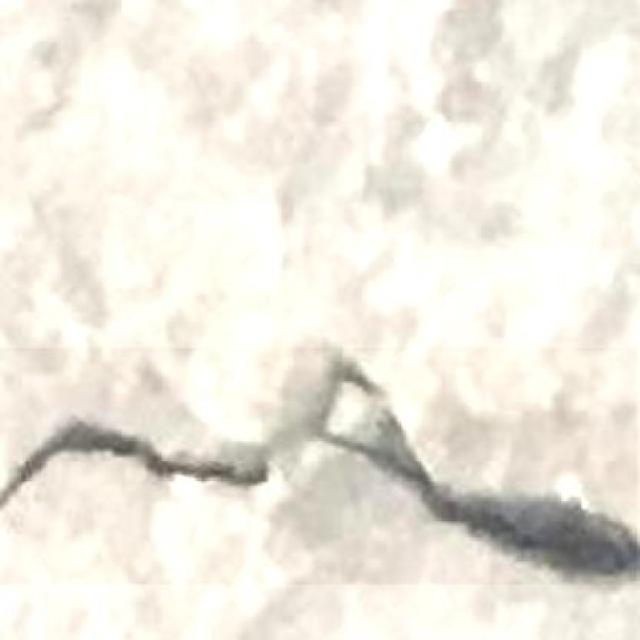Crack: (2, 344, 640, 582)
